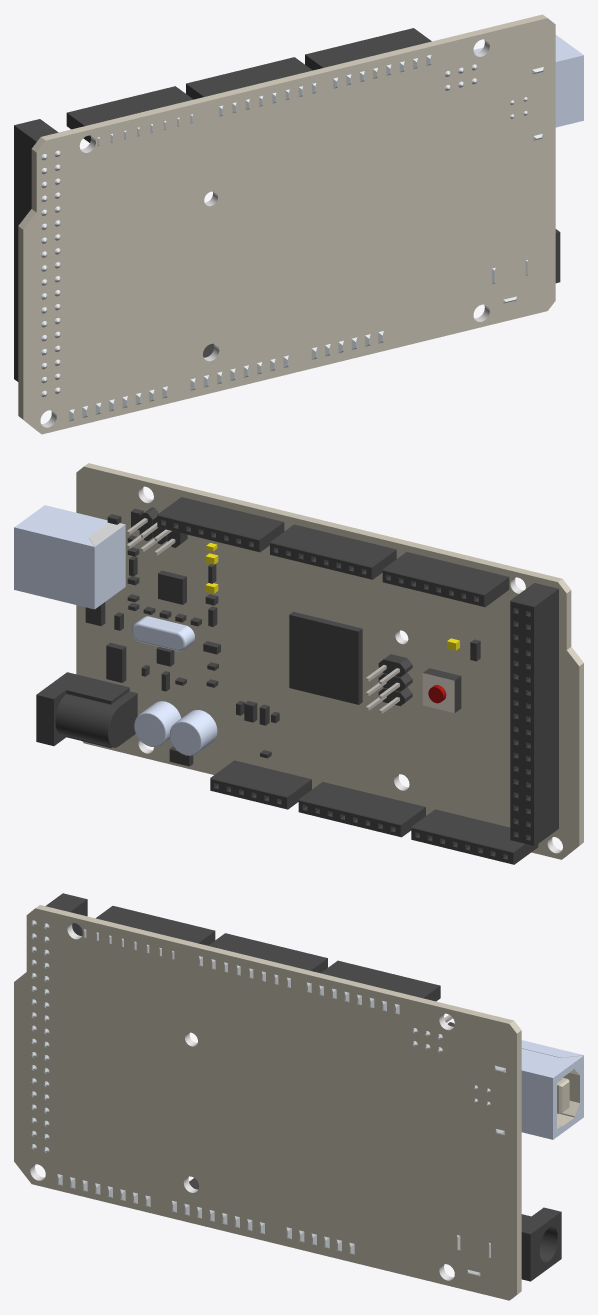
The model's file is ArduinoMega.glb.
3 renders of one model, top to bottom at view 1: azimuth 30°, elevation 25°; view 2: azimuth 150°, elevation 25°; view 3: azimuth 330°, elevation 25°, orthographic. The views are drawn at different scales.
Visible parts, largest first — view 1: ArduinoMega; view 2: ArduinoMega; view 3: ArduinoMega.
Part boxes in pixels (x1,y1,x2,y2): ArduinoMega: (14,14,583,434); ArduinoMega: (14,463,583,864); ArduinoMega: (14,893,583,1300).
Size of the model in its own units: 0.1079 by 0.0534 by 0.013.
